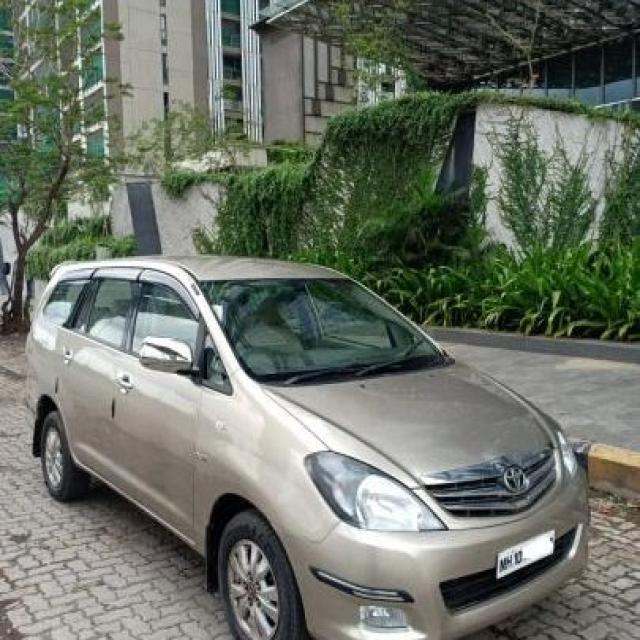light_vehicle: (21, 251, 592, 633)
